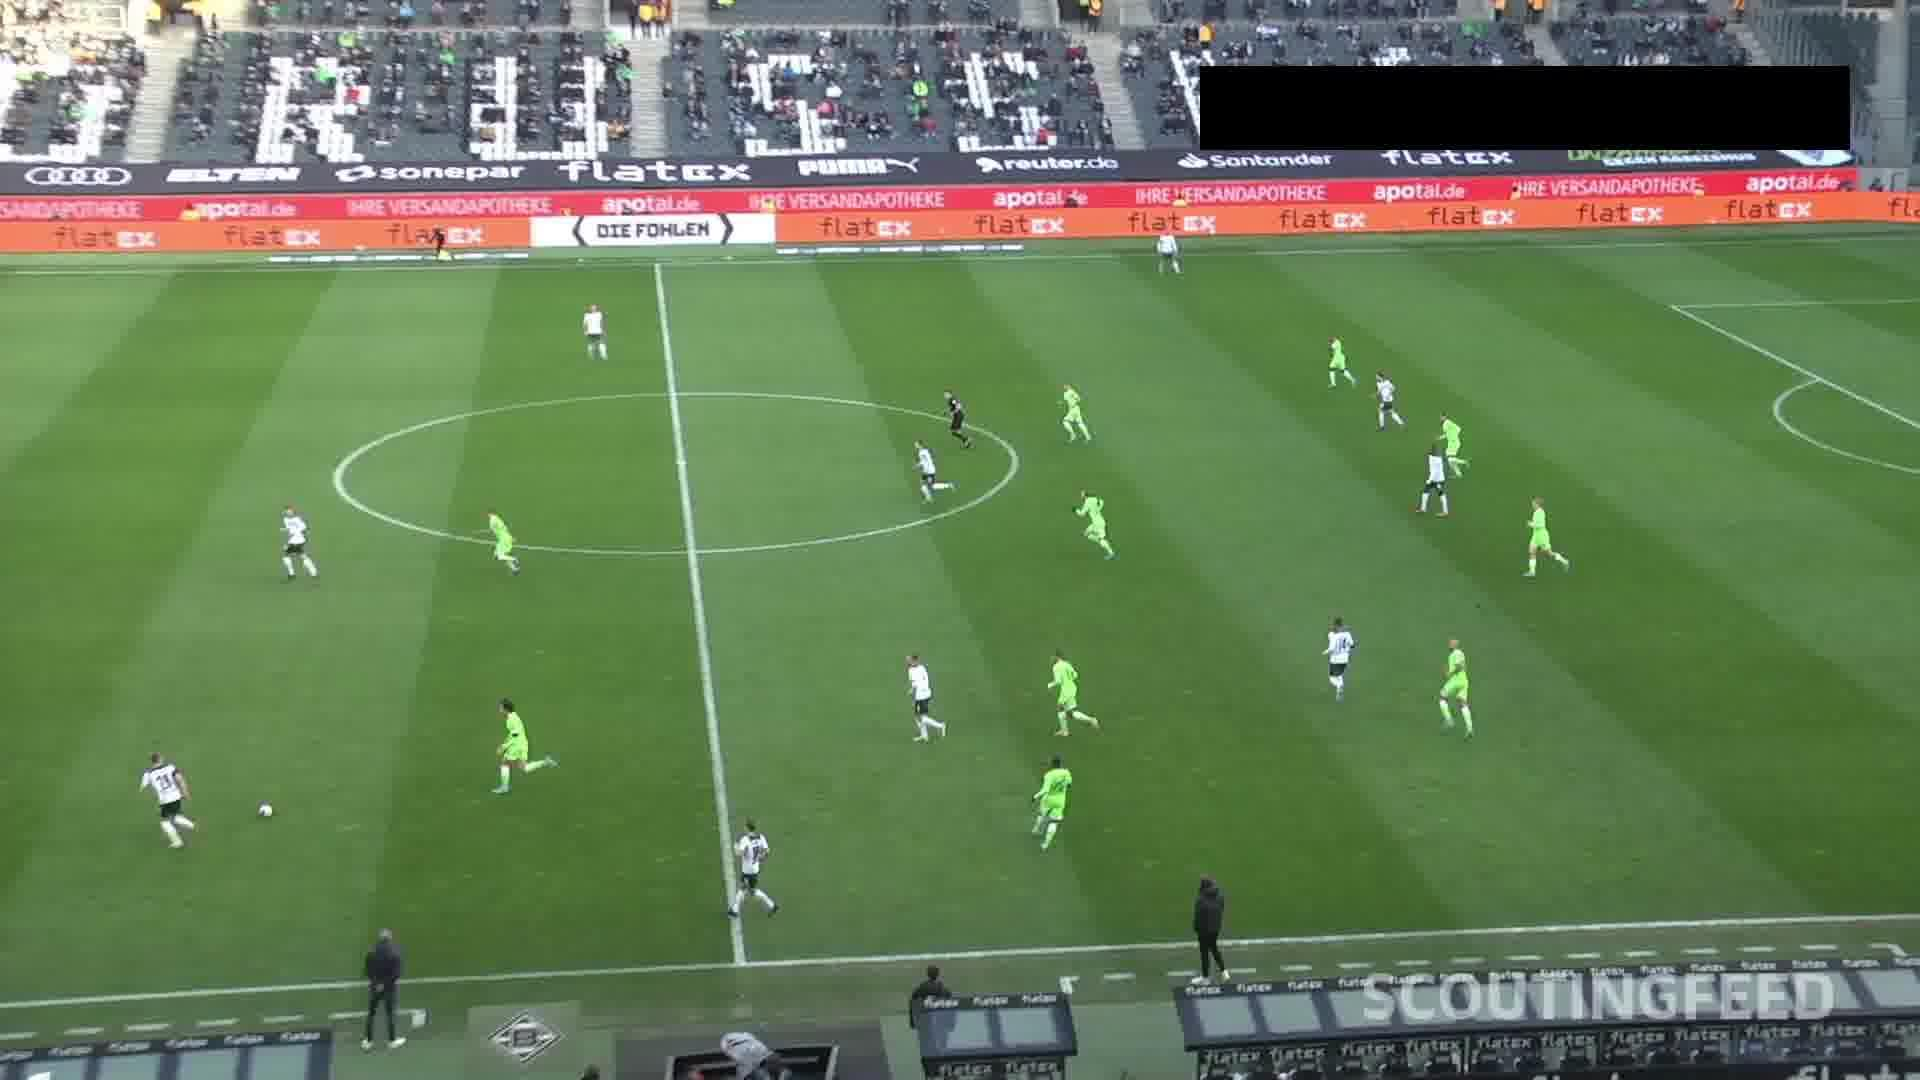football: (255, 800, 273, 820)
